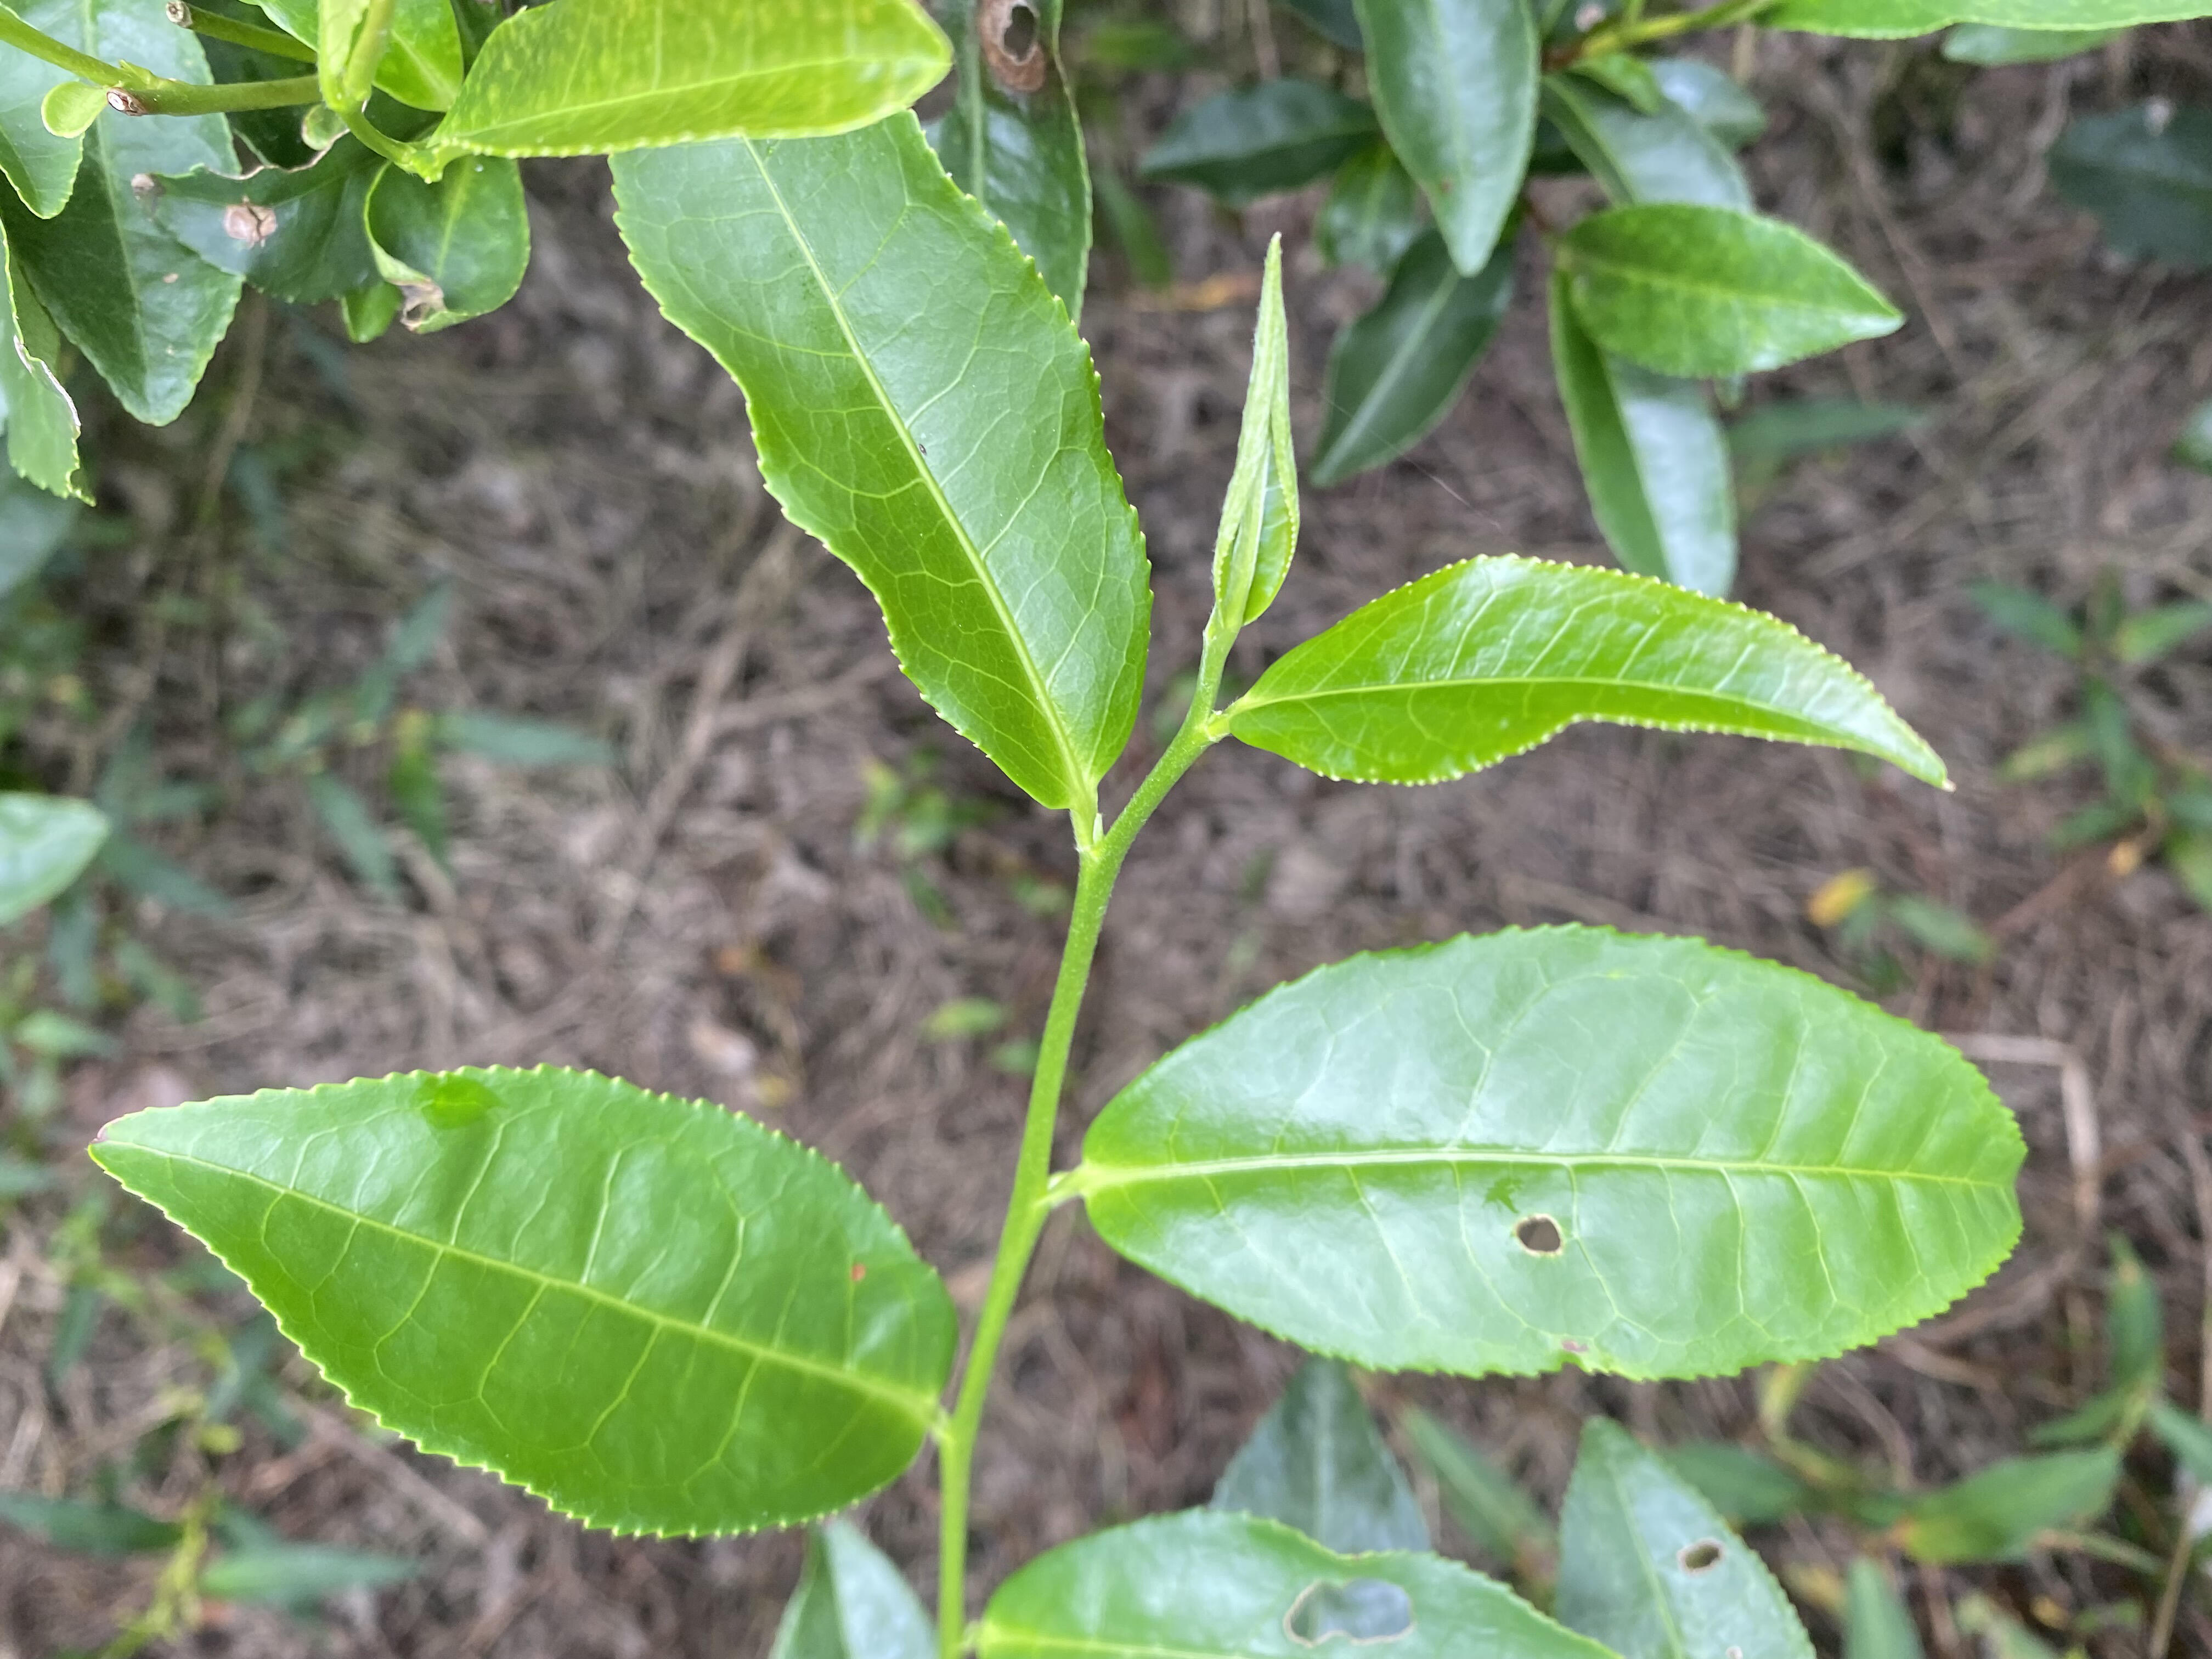chihuo_low: (1076, 915, 2029, 1382), (981, 1506, 1623, 1656), (1555, 1410, 1808, 1657)
healthy: (606, 108, 1157, 807), (1233, 549, 1951, 789), (444, 3, 953, 157)
tanju_low: (89, 1063, 960, 1542)
